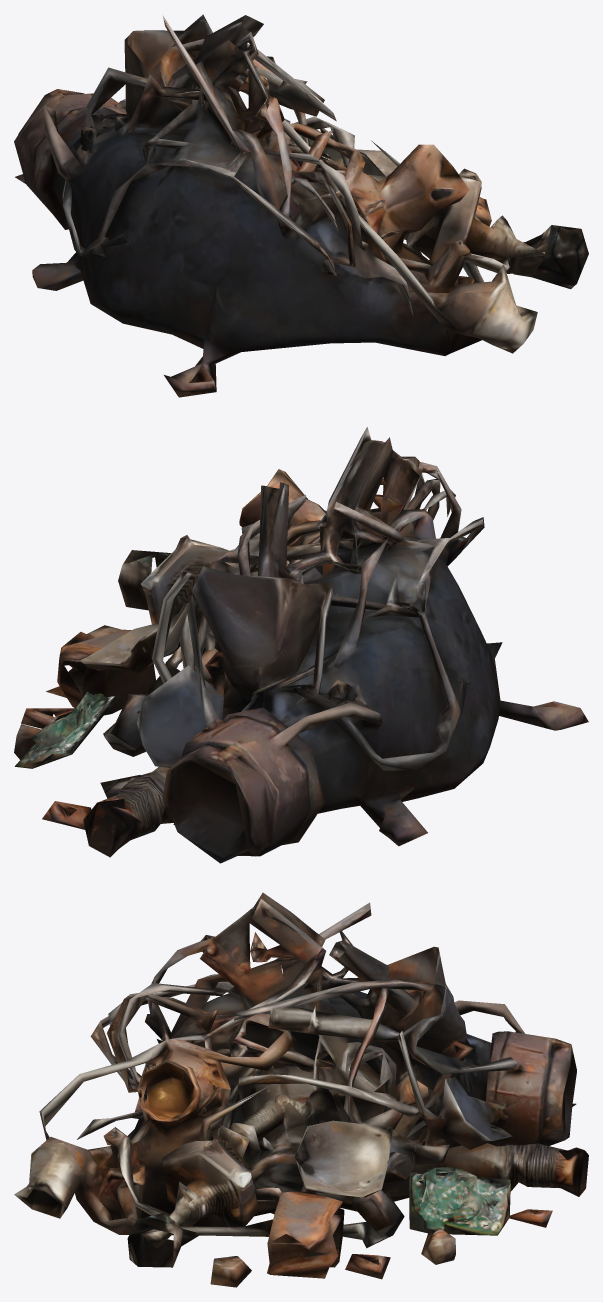
The model's file is ul_junk.glb.
3 renders of one model, top to bottom at view 1: azimuth 30°, elevation 25°; view 2: azimuth 150°, elevation 25°; view 3: azimuth 270°, elevation 25°, orthographic. The views are drawn at different scales.
Visible parts, largest first — view 1: tripo_node_ed38ff65-0b40-44d9-ad70-54de2fd6d700; view 2: tripo_node_ed38ff65-0b40-44d9-ad70-54de2fd6d700; view 3: tripo_node_ed38ff65-0b40-44d9-ad70-54de2fd6d700.
Part boxes in pixels (x1,y1,x2,y2): tripo_node_ed38ff65-0b40-44d9-ad70-54de2fd6d700: (14,14,588,397); tripo_node_ed38ff65-0b40-44d9-ad70-54de2fd6d700: (14,427,588,863); tripo_node_ed38ff65-0b40-44d9-ad70-54de2fd6d700: (14,892,588,1287).
Size of the model in its own units: 0.7679 by 0.5168 by 1.
1 material, 1 textured.
